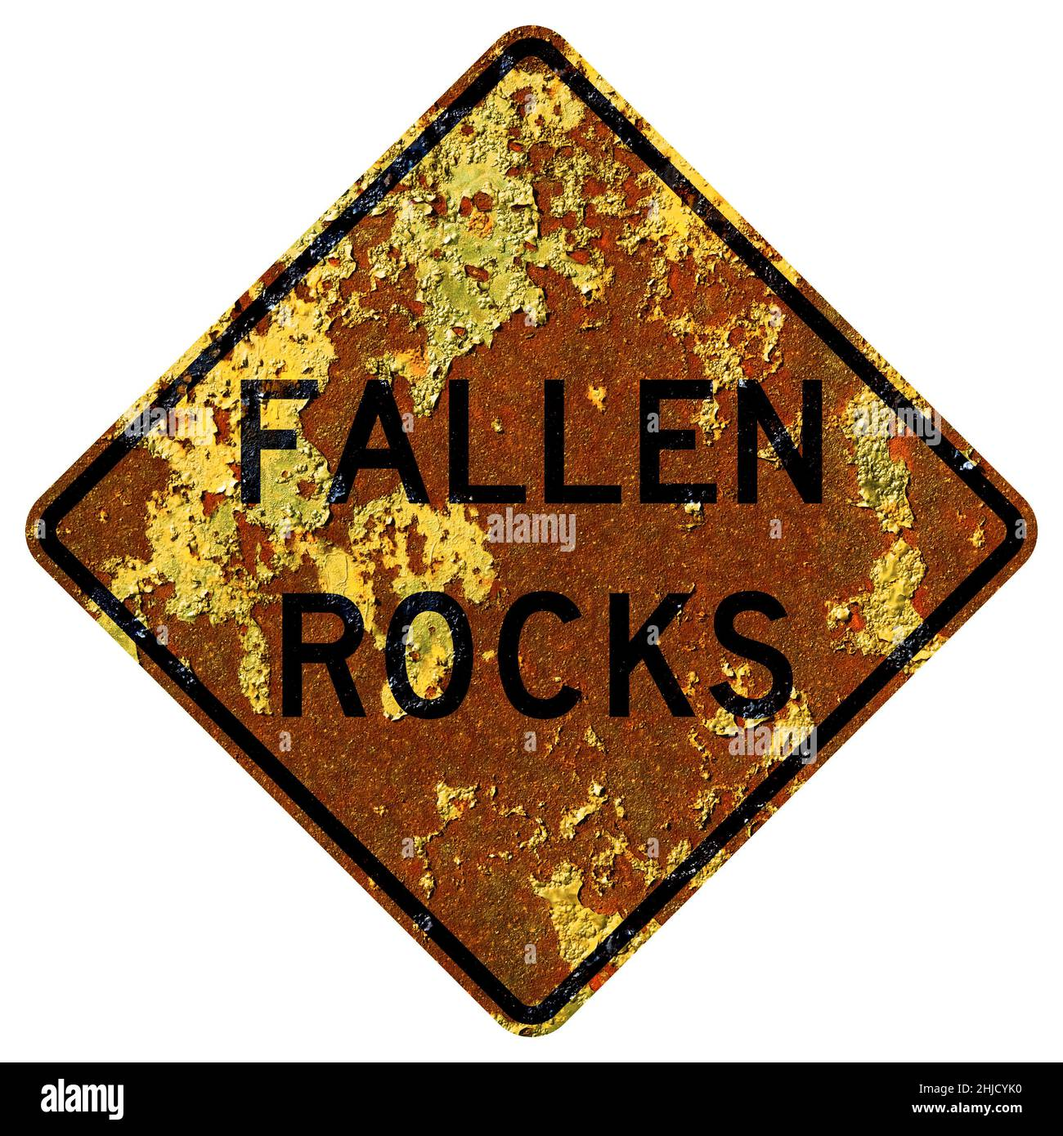FallenSign: (16, 19, 1053, 1035)
